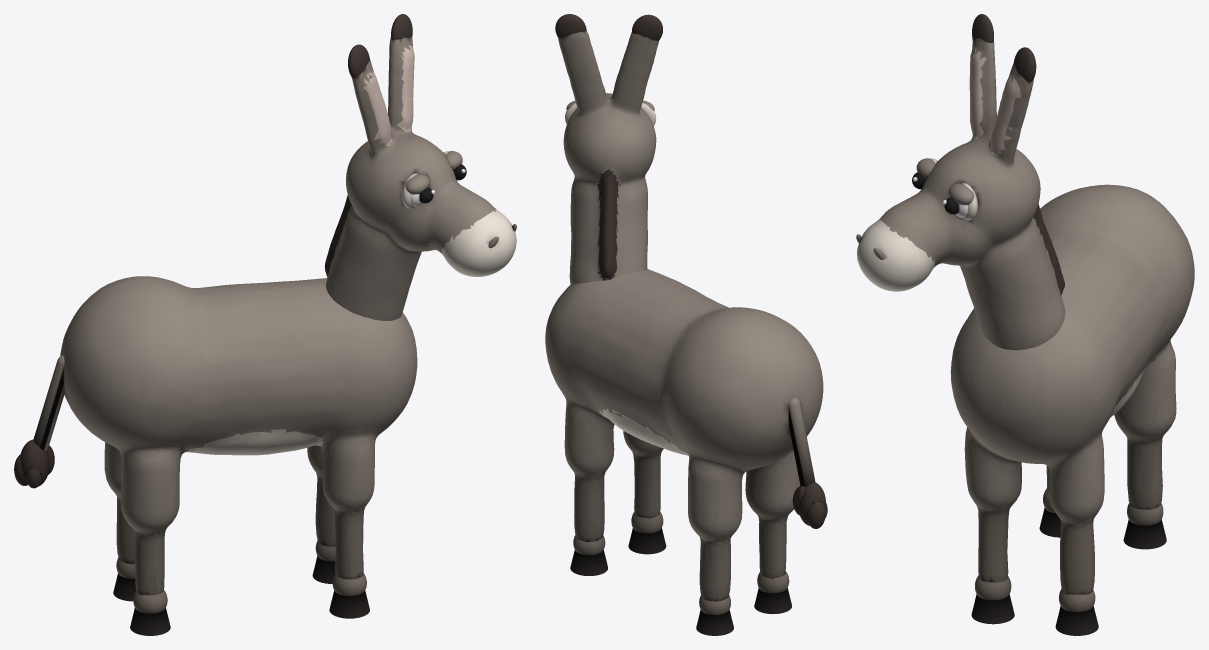
The model's file is ett-bord-for-tva-tack.glb.
3 renders of one model, left to right at view 1: azimuth 30°, elevation 25°; view 2: azimuth 150°, elevation 25°; view 3: azimuth 270°, elevation 25°, orthographic. The views are drawn at different scales.
Visible parts, largest first — view 1: burro__r0, cabeca__r0, burro__r7, burro__r15, burro__r4, burro__r8; view 2: burro__r0, cabeca__r0, burro__r7, burro__r15, burro__r2, burro__r4, burro__r6, cabeca__r2, burro__r8, cabeca__r9, burro__r14, burro__r3 (+3 smaller); view 3: burro__r0, cabeca__r0, burro__r6, burro__r15, burro__r2, burro__r14, burro__r1, burro__r5, cabeca__r9, cabeca__r2.
Part boxes in pixels (box(x1,y1,x2,y2)): burro__r0: box(60, 276, 417, 594); cabeca__r0: box(324, 37, 516, 320); burro__r7: box(33, 355, 64, 450); burro__r15: box(329, 591, 369, 618); burro__r4: box(130, 608, 170, 635); burro__r8: box(20, 439, 49, 486); burro__r0: box(545, 269, 823, 601); cabeca__r0: box(558, 31, 659, 284); burro__r7: box(788, 397, 815, 486); burro__r15: box(628, 528, 666, 554); burro__r2: box(570, 550, 607, 575); burro__r4: box(754, 588, 791, 614); burro__r6: box(696, 610, 733, 635); cabeca__r2: box(632, 14, 662, 40); burro__r8: box(798, 482, 825, 525); cabeca__r9: box(555, 14, 586, 37); burro__r14: box(631, 511, 663, 533); burro__r3: box(757, 571, 789, 593); burro__r0: box(950, 184, 1194, 594); cabeca__r0: box(857, 38, 1065, 350); burro__r6: box(1123, 519, 1166, 549); burro__r15: box(971, 594, 1014, 624); burro__r2: box(1055, 606, 1098, 635); burro__r14: box(975, 575, 1011, 600); burro__r1: box(1059, 588, 1095, 612); burro__r5: box(1127, 503, 1163, 525); cabeca__r9: box(1013, 47, 1036, 82); cabeca__r2: box(972, 14, 993, 42).
Size of the model in its own units: 1.68 by 2.4 by 1.22.
